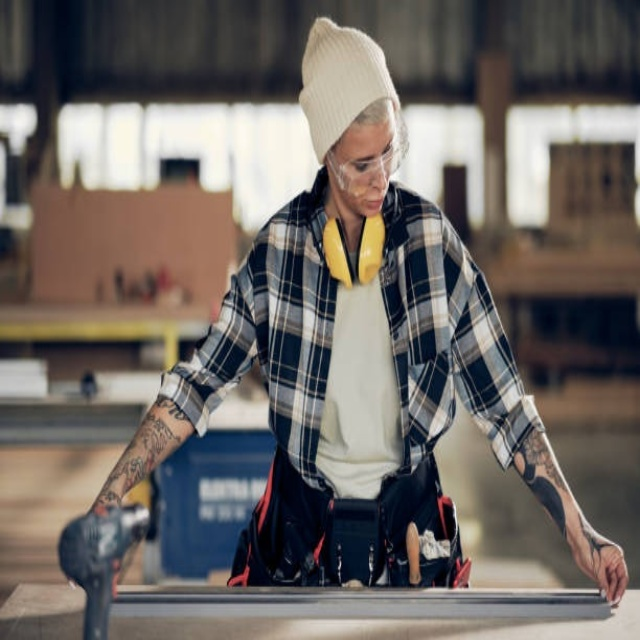Gafas: (325, 121, 404, 197)
Sin_guantes: (572, 526, 631, 608)
Sin_mascara: (360, 187, 386, 218)
